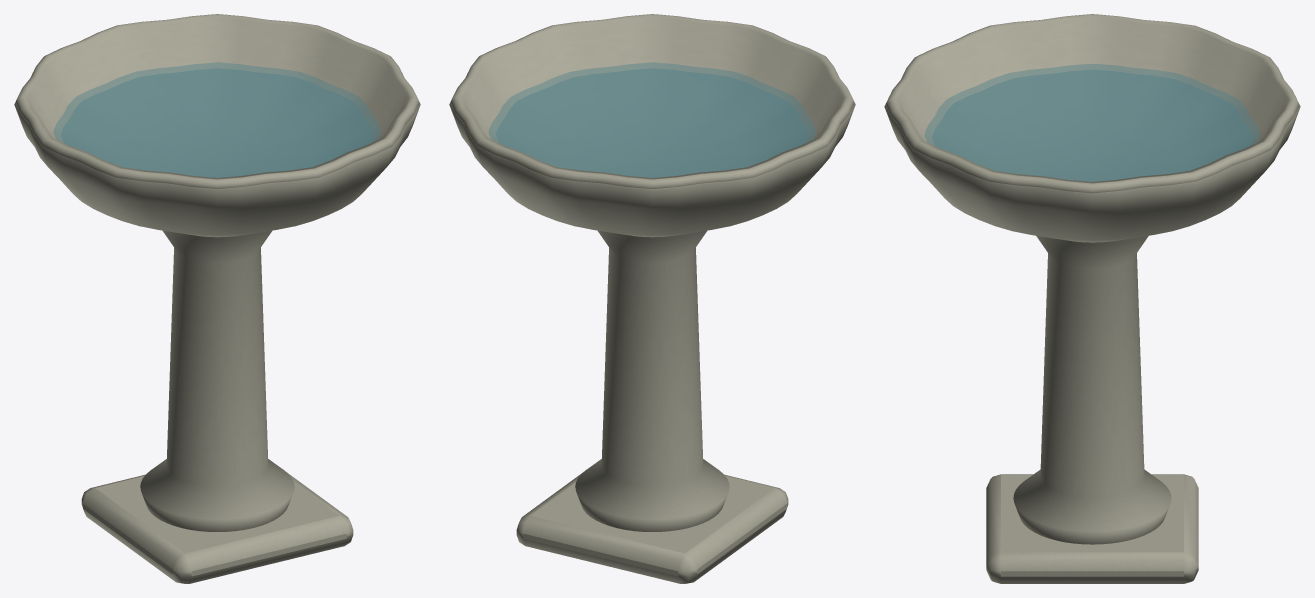
File: BirdBath.gltf
3 renders of one model, left to right at view 1: azimuth 30°, elevation 25°; view 2: azimuth 150°, elevation 25°; view 3: azimuth 270°, elevation 25°, orthographic. The views are drawn at different scales.
Visible parts, largest first — view 1: BirdBath__Body, BirdBath__Water; view 2: BirdBath__Body, BirdBath__Water; view 3: BirdBath__Body, BirdBath__Water.
Part boxes in pixels (x1,y1,x2,y2): BirdBath__Body: (14, 14, 420, 583); BirdBath__Water: (54, 62, 380, 177); BirdBath__Body: (449, 14, 855, 583); BirdBath__Water: (489, 62, 815, 177); BirdBath__Body: (884, 14, 1300, 583); BirdBath__Water: (925, 64, 1259, 181).
Size of the model in its own units: 0.616 by 0.728 by 0.616.
Materials: 2 (1 with a texture image).
